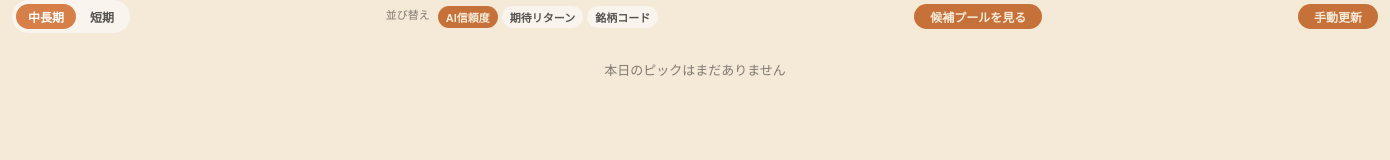
it: PicksBoard › LLM 未設定など ok 以外の status ではメッセージを表示する
Click the button "手動更新" at (1338, 16), box left=1298, top=4, right=1378, bottom=29
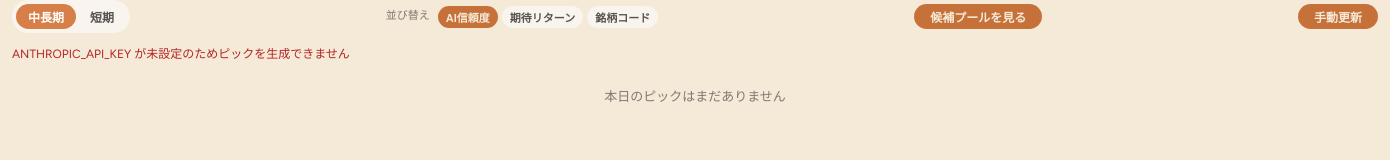
Result: the text "ANTHROPIC_API_KEY が未設定のためピックを生成できません" is shown at left=12, top=47, right=350, bottom=61
